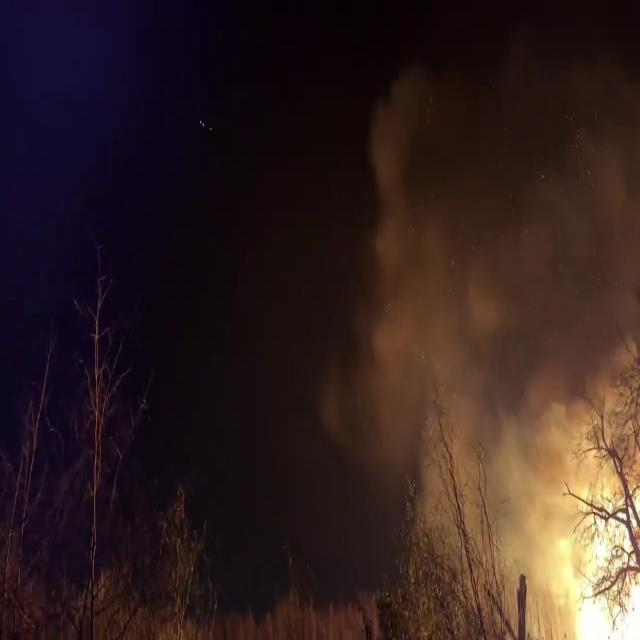Fire: (533, 404, 640, 640)
Smoke: (316, 2, 640, 538)
